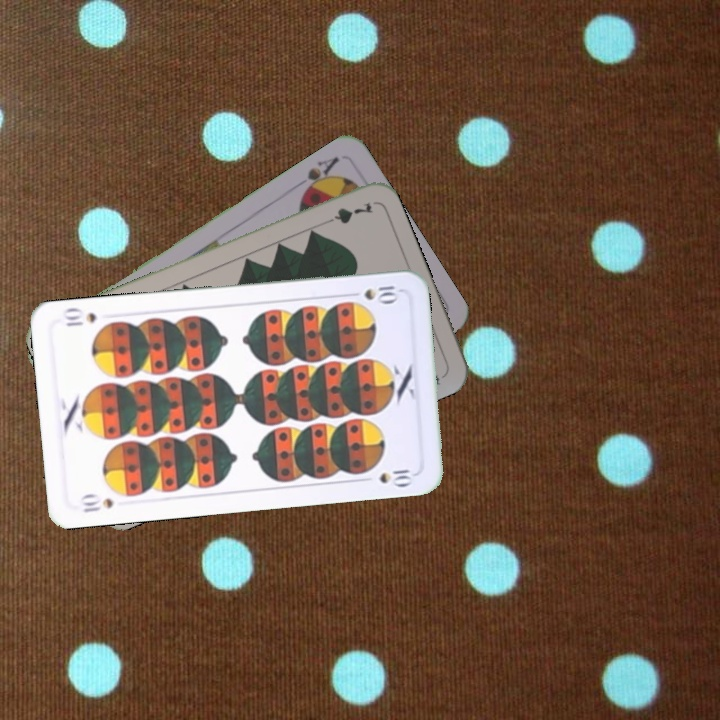G7: (317, 198, 376, 229)
S10: (75, 490, 116, 515), (360, 282, 402, 304)
SA: (297, 152, 342, 200)
